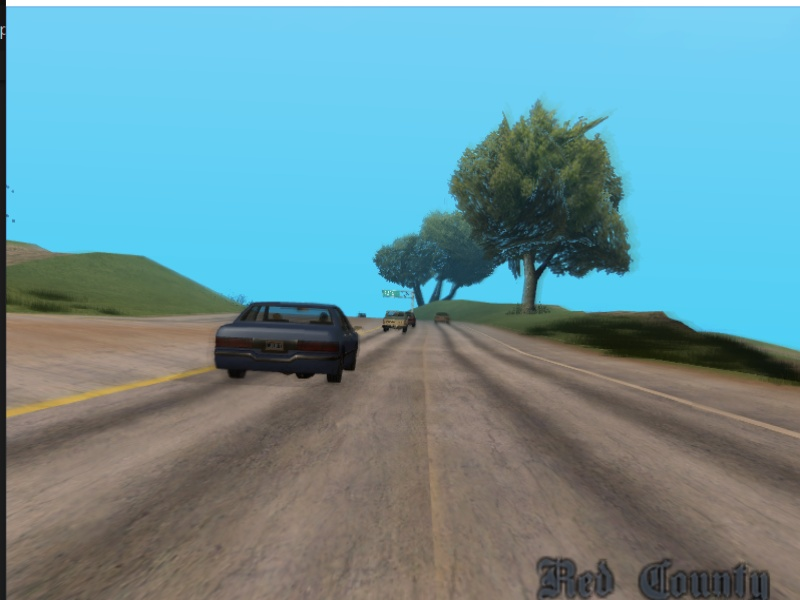tree: (461, 111, 624, 314)
vehicle: (218, 291, 365, 389), (381, 308, 413, 335)
